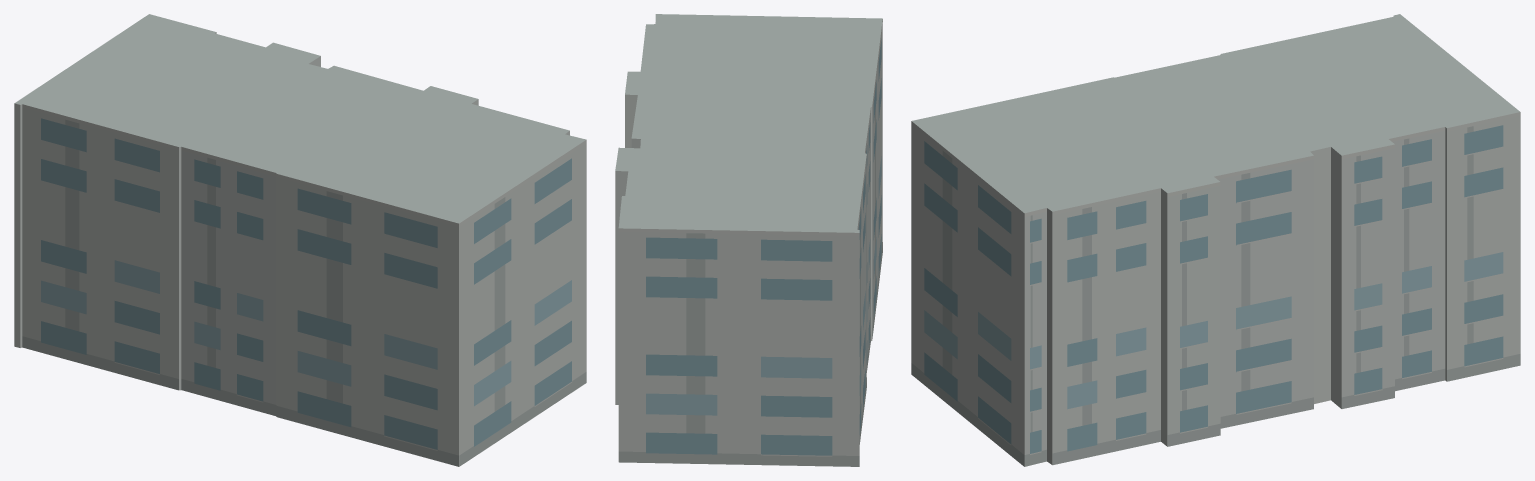
Rendered from survey-upis-32839246.glb.
3 renders of one model, left to right at view 1: azimuth 30°, elevation 25°; view 2: azimuth 150°, elevation 25°; view 3: azimuth 270°, elevation 25°, orthographic. The views are drawn at different scales.
Visible parts, largest first — view 1: survey-upis-32839246.tmp; view 2: survey-upis-32839246.tmp; view 3: survey-upis-32839246.tmp.
Boxes of the visible parts, box(x1,y1,x2,y2) form: survey-upis-32839246.tmp: box(14, 14, 586, 466); survey-upis-32839246.tmp: box(615, 14, 882, 466); survey-upis-32839246.tmp: box(911, 14, 1520, 466).
Size of the model in its own units: 27.41 by 16.25 by 35.39.
